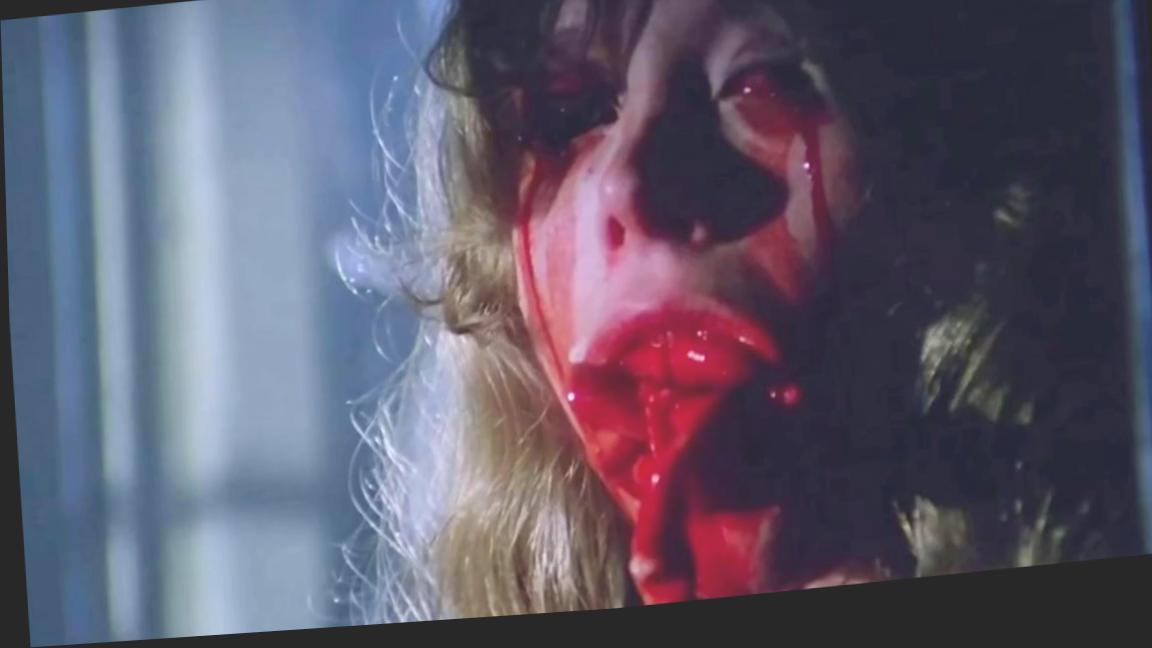Fire: (511, 0, 871, 614)
